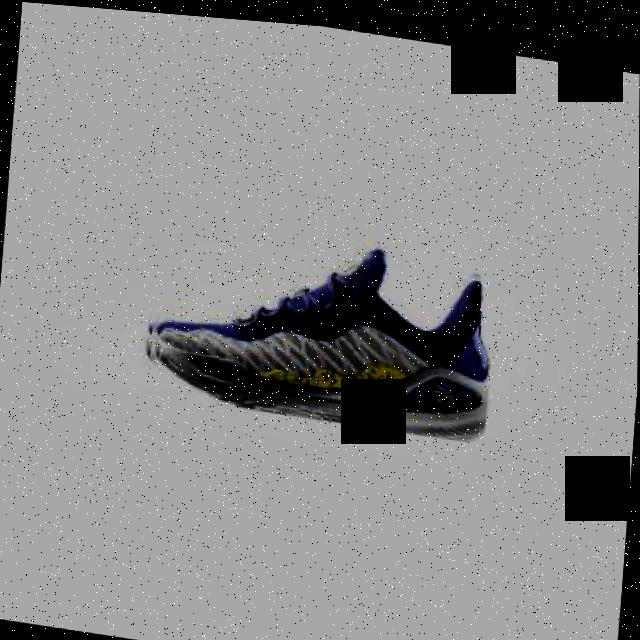shoe: (139, 212, 498, 437)
